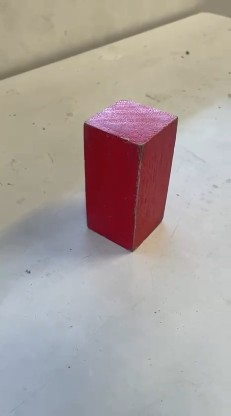red: (86, 99, 166, 243)
